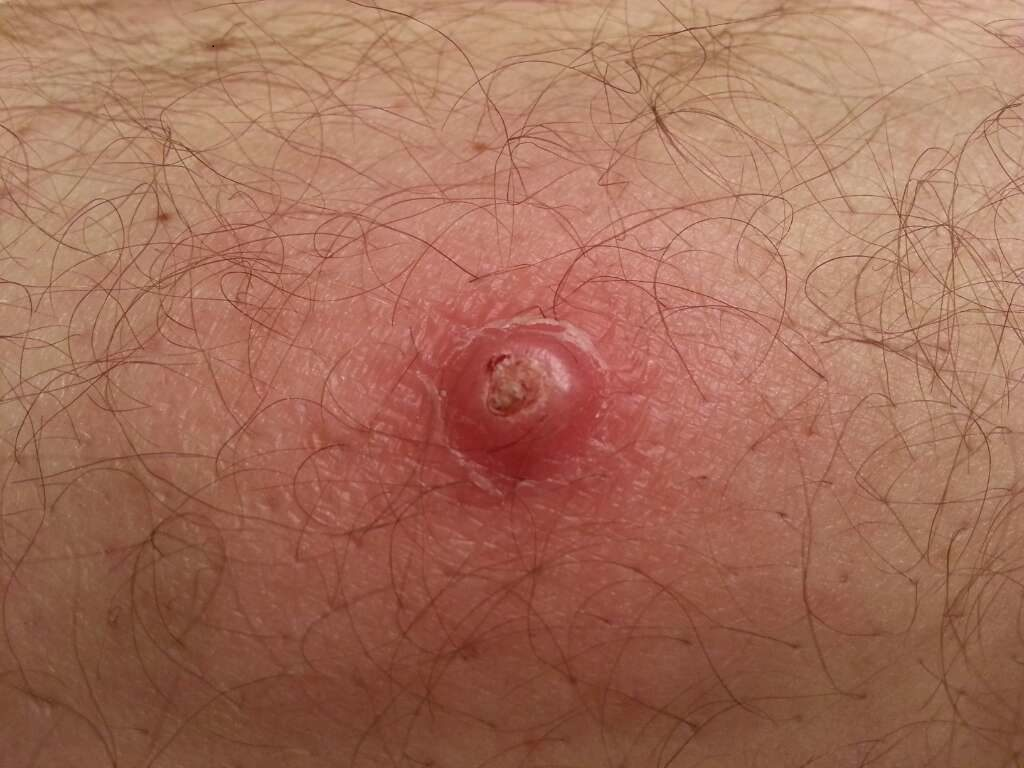Carcinoma: (426, 313, 623, 471)
